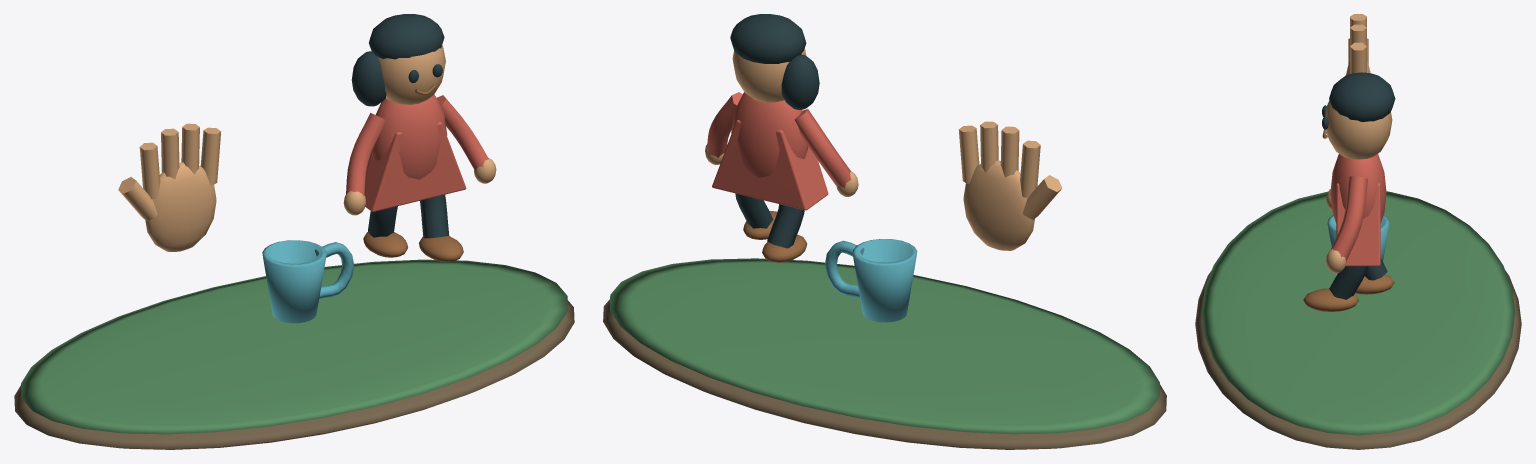
File: complete-first-receive-from-attendant.glb
3 views of the same model, side by side, from view 1: azimuth 30°, elevation 25°; view 2: azimuth 150°, elevation 25°; view 3: azimuth 270°, elevation 25° (orthographic). The views are drawn at different scales.
Visible parts, largest first — view 1: complete-first-receive-from-attendant_surface_01, complete-first-receive-from-attendant_surface_02, complete-first-receive-from-attendant_surface_05, complete-first-receive-from-attendant_surface_00, complete-first-receive-from-attendant_surface_03, complete-first-receive-from-attendant_surface_06, complete-first-receive-from-attendant_surface_04; view 2: complete-first-receive-from-attendant_surface_01, complete-first-receive-from-attendant_surface_05, complete-first-receive-from-attendant_surface_02, complete-first-receive-from-attendant_surface_00, complete-first-receive-from-attendant_surface_03, complete-first-receive-from-attendant_surface_06, complete-first-receive-from-attendant_surface_04; view 3: complete-first-receive-from-attendant_surface_01, complete-first-receive-from-attendant_surface_00, complete-first-receive-from-attendant_surface_05, complete-first-receive-from-attendant_surface_02, complete-first-receive-from-attendant_surface_03, complete-first-receive-from-attendant_surface_04, complete-first-receive-from-attendant_surface_06.
Part boxes in pixels (left/top/right/bottom): complete-first-receive-from-attendant_surface_01: left=21, top=259, right=567, bottom=434; complete-first-receive-from-attendant_surface_02: left=118, top=45, right=496, bottom=251; complete-first-receive-from-attendant_surface_05: left=346, top=94, right=488, bottom=211; complete-first-receive-from-attendant_surface_00: left=14, top=300, right=574, bottom=449; complete-first-receive-from-attendant_surface_03: left=351, top=14, right=449, bottom=238; complete-first-receive-from-attendant_surface_06: left=262, top=240, right=353, bottom=323; complete-first-receive-from-attendant_surface_04: left=363, top=85, right=463, bottom=261; complete-first-receive-from-attendant_surface_01: left=610, top=258, right=1159, bottom=434; complete-first-receive-from-attendant_surface_05: left=707, top=92, right=851, bottom=210; complete-first-receive-from-attendant_surface_02: left=705, top=48, right=1062, bottom=250; complete-first-receive-from-attendant_surface_00: left=603, top=299, right=1166, bottom=449; complete-first-receive-from-attendant_surface_03: left=730, top=14, right=819, bottom=248; complete-first-receive-from-attendant_surface_06: left=825, top=239, right=917, bottom=322; complete-first-receive-from-attendant_surface_04: left=743, top=211, right=807, bottom=262; complete-first-receive-from-attendant_surface_01: left=1201, top=191, right=1515, bottom=435; complete-first-receive-from-attendant_surface_00: left=1195, top=270, right=1521, bottom=449; complete-first-receive-from-attendant_surface_05: left=1330, top=154, right=1386, bottom=266; complete-first-receive-from-attendant_surface_02: left=1325, top=14, right=1392, bottom=273; complete-first-receive-from-attendant_surface_03: left=1322, top=72, right=1395, bottom=299; complete-first-receive-from-attendant_surface_04: left=1303, top=129, right=1394, bottom=311; complete-first-receive-from-attendant_surface_06: left=1327, top=215, right=1389, bottom=275.
Bounding box in the file's own units: 4.56 × 2.67 × 2.5.
